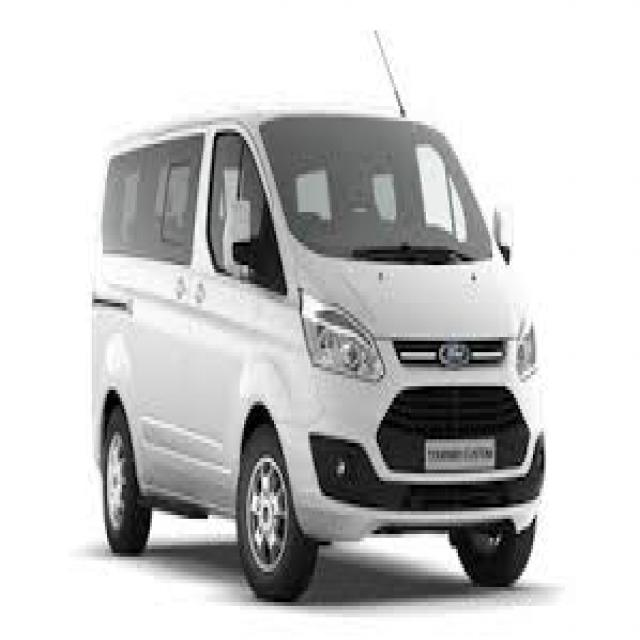Car: (90, 108, 546, 594)
